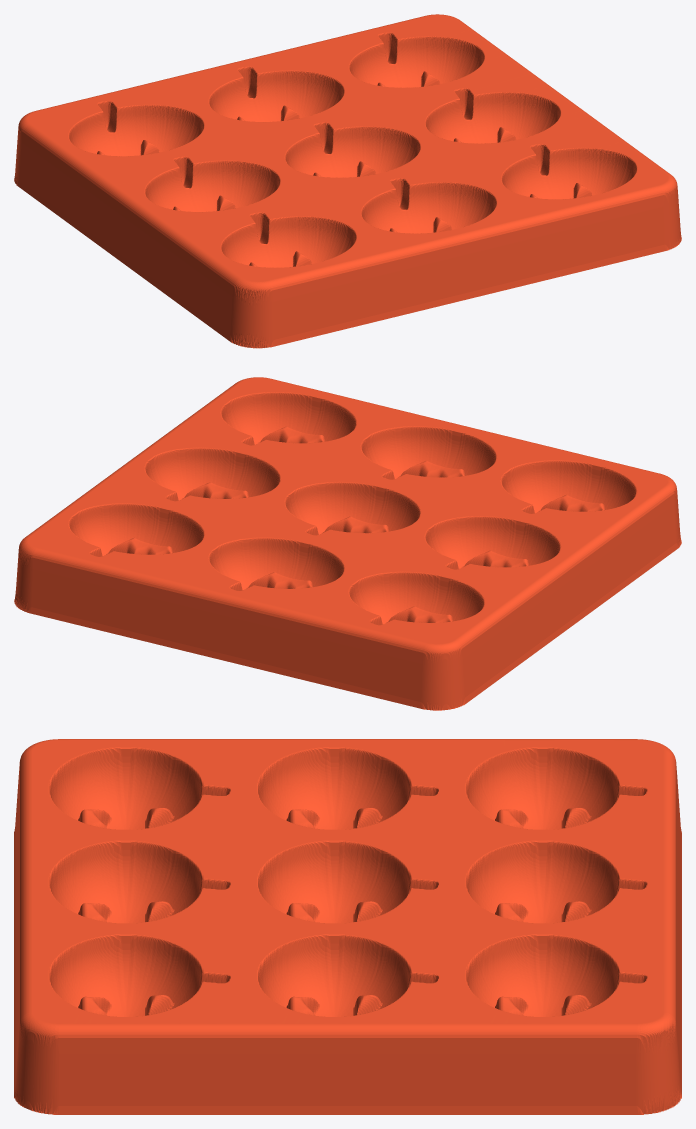
The model's file is mold.glb.
3 views of the same model, one above another, from view 1: azimuth 30°, elevation 25°; view 2: azimuth 150°, elevation 25°; view 3: azimuth 270°, elevation 25° (orthographic). The views are drawn at different scales.
Parts seen in each view (by area): view 1: geometry_0; view 2: geometry_0; view 3: geometry_0.
Part boxes in pixels (x1=…): geometry_0: x1=14, y1=14, x2=681, y2=348; geometry_0: x1=14, y1=377, x2=681, y2=710; geometry_0: x1=14, y1=739, x2=681, y2=1114.
Size of the model in its own units: 0.1402 by 0.0182 by 0.1324.
